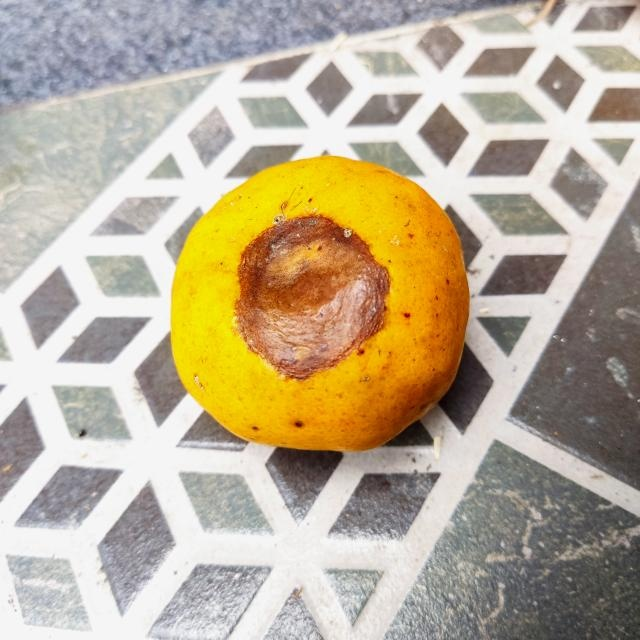agrume: (168, 155, 472, 451)
